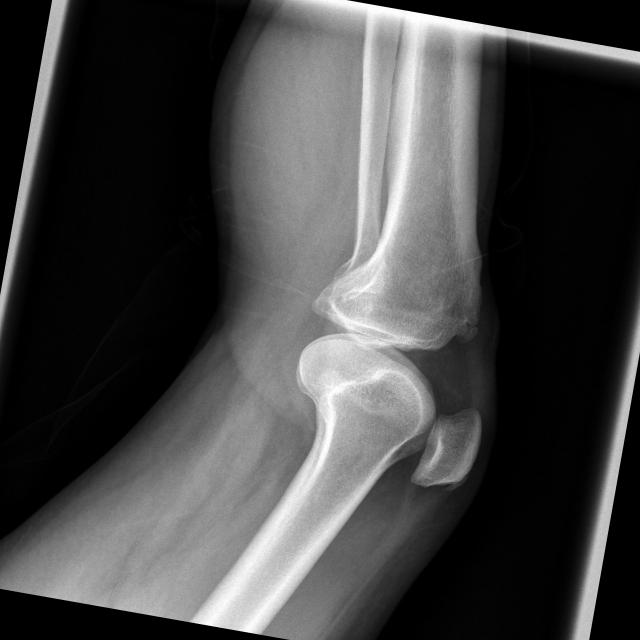Knee: (262, 262, 504, 498)
